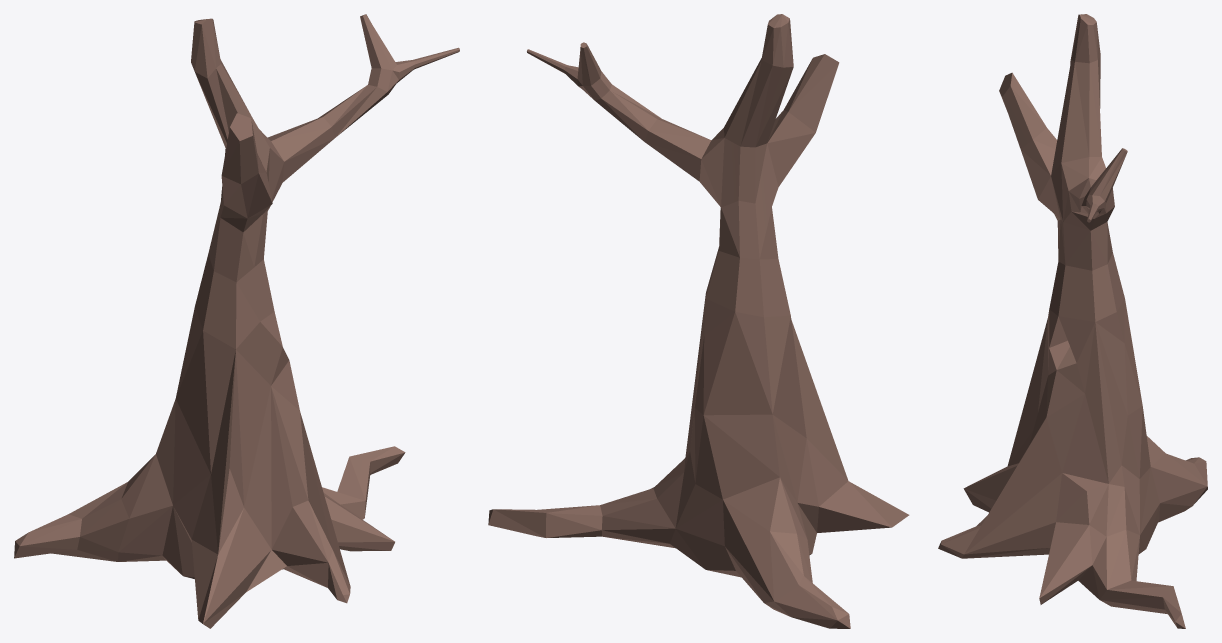
File: fantasy_plant_010.fbx
3 views of the same model, side by side, from view 1: azimuth 30°, elevation 25°; view 2: azimuth 150°, elevation 25°; view 3: azimuth 270°, elevation 25° (orthographic). The views are drawn at different scales.
Parts seen in each view (by area): view 1: fantasy_plant.010; view 2: fantasy_plant.010; view 3: fantasy_plant.010.
Boxes of the visible parts, x1,y1,x2,y2 form: fantasy_plant.010: (14,14,459,628); fantasy_plant.010: (488,14,909,628); fantasy_plant.010: (938,14,1207,628).
Bounding box in the file's own units: 506 × 694 × 328.
1 material, 1 textured.
